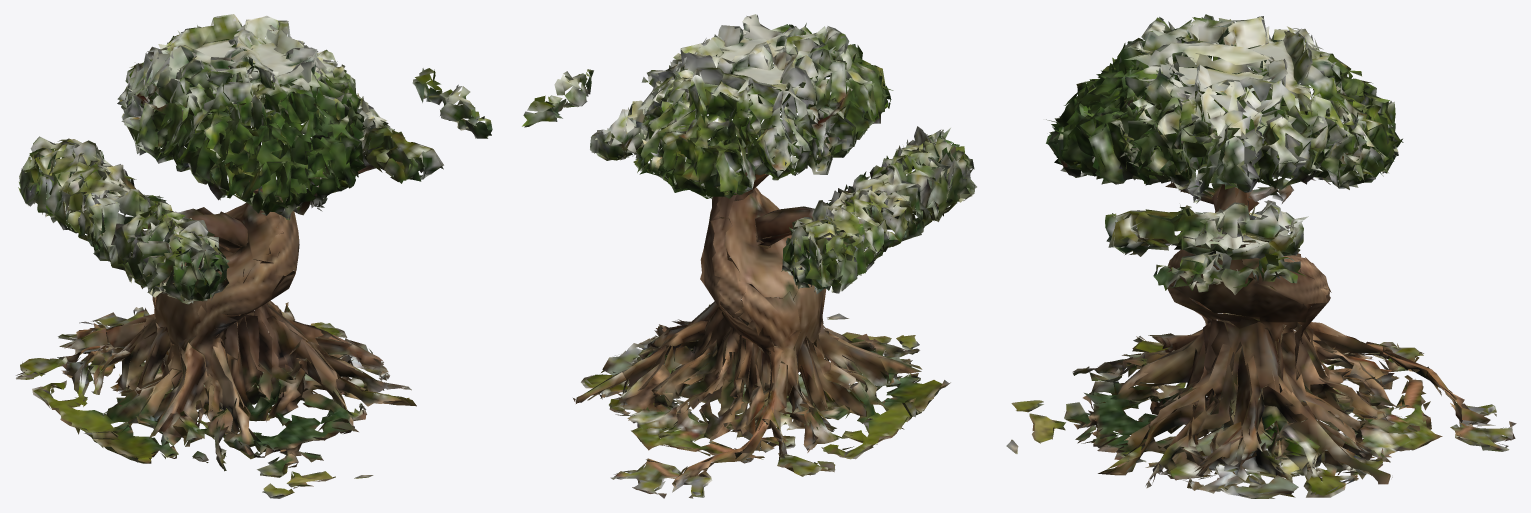
File: F3D_03_BranchedTree.fbx
3 views of the same model, side by side, from view 1: azimuth 30°, elevation 25°; view 2: azimuth 150°, elevation 25°; view 3: azimuth 270°, elevation 25° (orthographic). The views are drawn at different scales.
Visible parts, largest first — view 1: F3D_03_BranchedTree; view 2: F3D_03_BranchedTree; view 3: F3D_03_BranchedTree.
Part boxes in pixels (x1,y1,x2,y2): F3D_03_BranchedTree: (16,14,492,498); F3D_03_BranchedTree: (522,14,976,498); F3D_03_BranchedTree: (1006,14,1516,498).
Bounding box in the file's own units: 1.07 × 1 × 1.16.
1 material, 1 textured.
